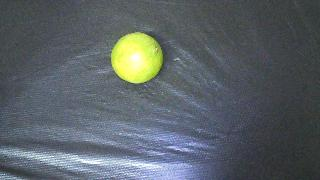LOCAL: (111, 32, 163, 84)
